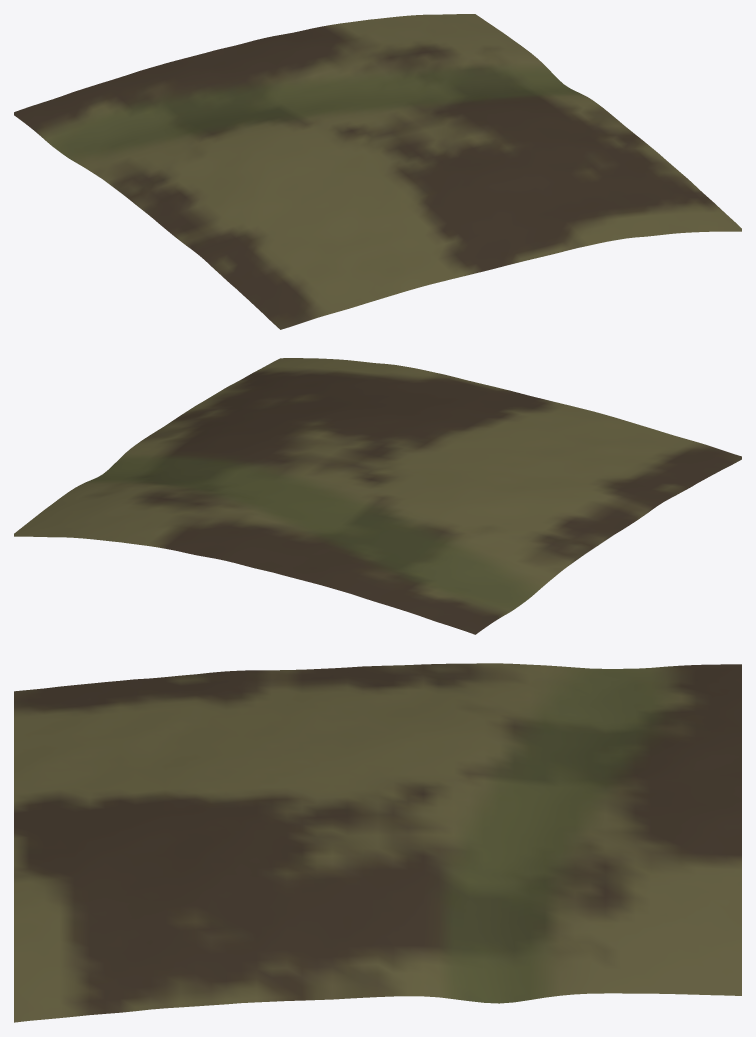
Rendered from land_m_05_07.glb.
The picture shows the model from 3 angles, top to bottom: view 1: azimuth 30°, elevation 25°; view 2: azimuth 150°, elevation 25°; view 3: azimuth 270°, elevation 25°; orthographic projection. The views are drawn at different scales.
Parts seen in each view (by area): view 1: land_m_05_07; view 2: land_m_05_07; view 3: land_m_05_07.
Boxes of the visible parts, <box> form: land_m_05_07: <box>14,14,741,329</box>; land_m_05_07: <box>14,358,741,634</box>; land_m_05_07: <box>14,663,741,1022</box>.
Bounding box in the file's own units: 960 × 102 × 960.
